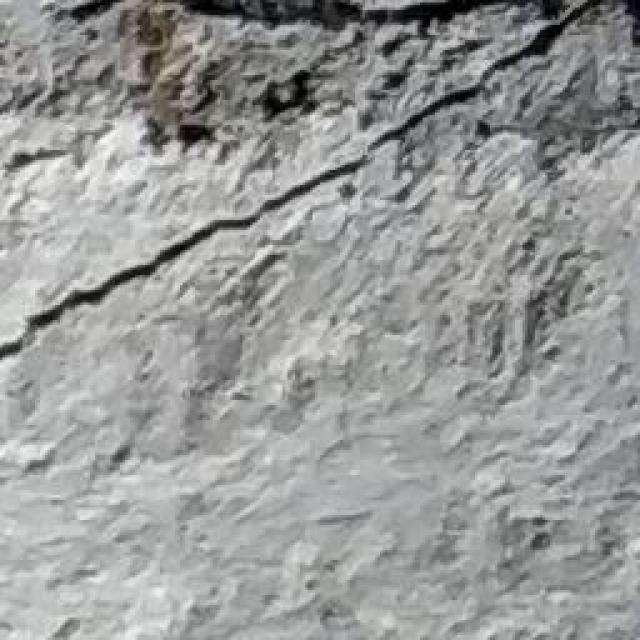Radial: (0, 0, 640, 370)
